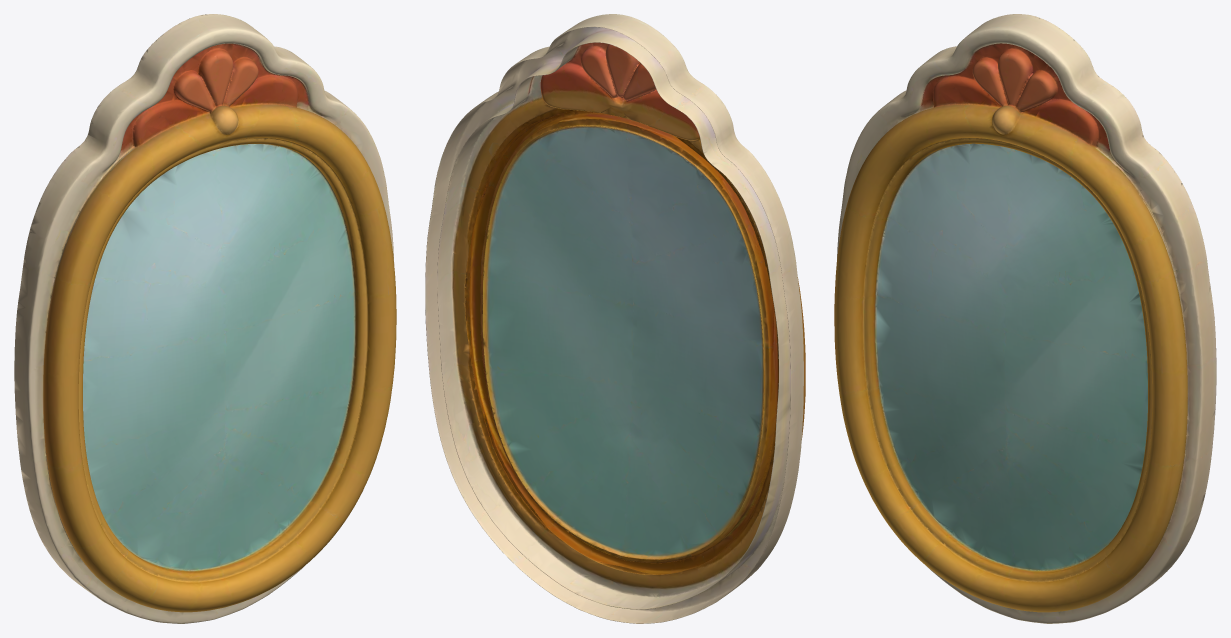
The model's file is Meshy_AI_model.glb.
3 renders of one model, left to right at view 1: azimuth 30°, elevation 25°; view 2: azimuth 150°, elevation 25°; view 3: azimuth 330°, elevation 25°, orthographic.
Parts seen in each view (by area): view 1: mesh_node; view 2: mesh_node; view 3: mesh_node.
Boxes of the visible parts, left/top/right/bottom form: mesh_node: left=14, top=14, right=396, bottom=623; mesh_node: left=425, top=14, right=805, bottom=623; mesh_node: left=834, top=14, right=1216, bottom=623.
Bounding box in the file's own units: 1.23 × 1.9 × 0.1894.
Materials: 1 (1 with a texture image).
